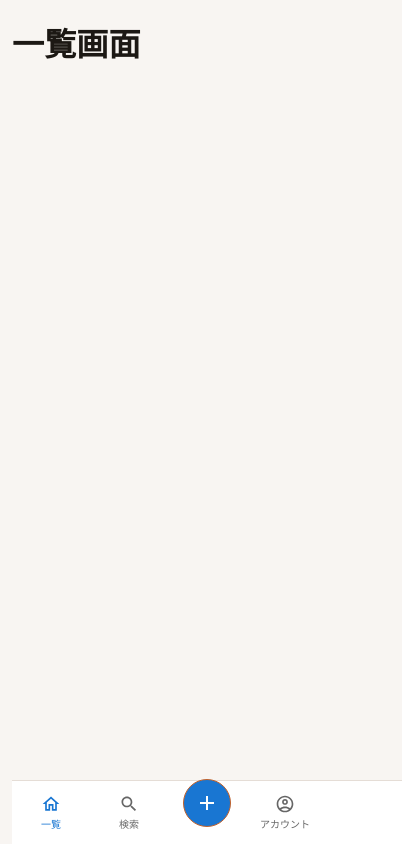
Test: AppShell › PCサイドメニューとモバイルメニューの検索から公開検索画面へ遷移できる
Click the button "検索" at (129, 812), box [90,781,168,843]
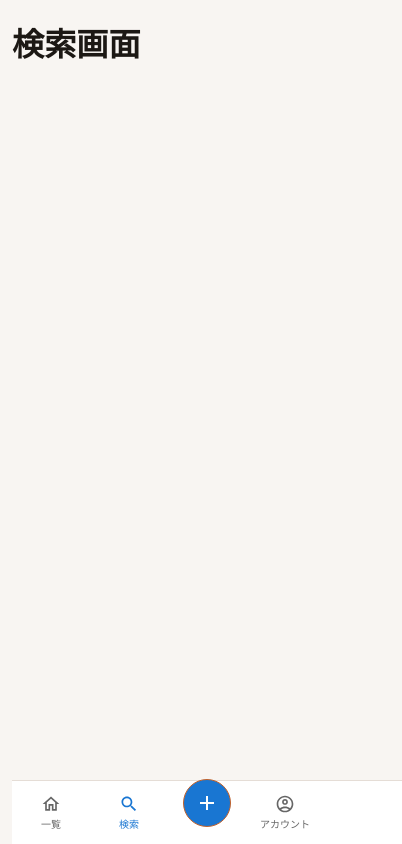
Expected: the heading "検索画面" is shown, [12,26,141,64]
